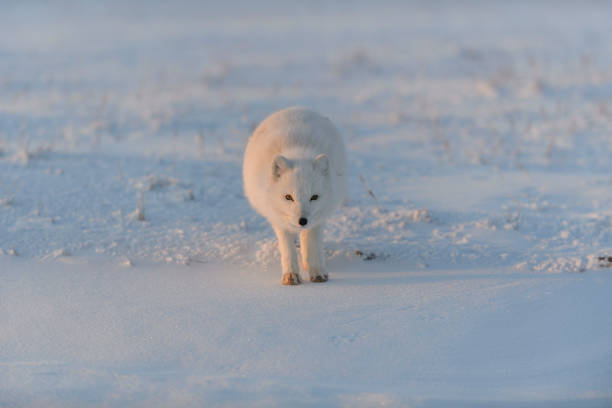arcticfox: (272, 159, 328, 244)
